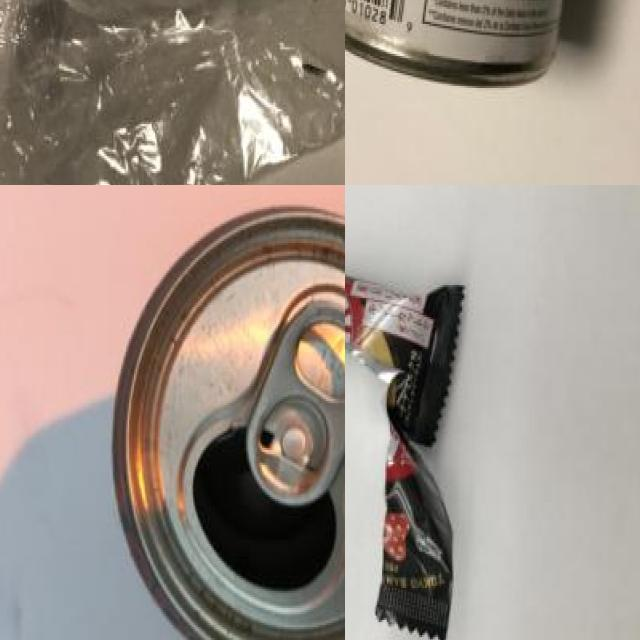plastic: (99, 202, 345, 640), (345, 0, 604, 78)
trash: (345, 222, 504, 640), (0, 0, 345, 185)
